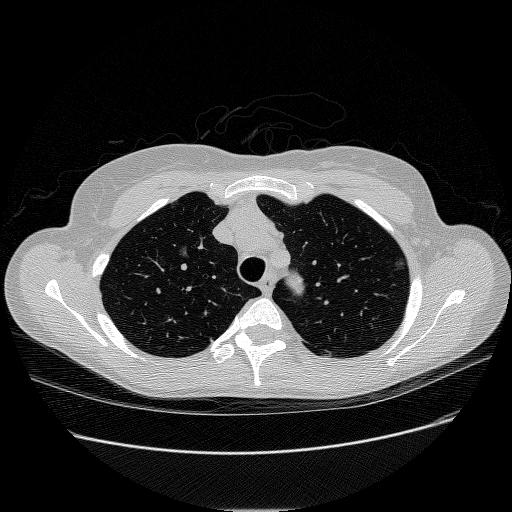nodule: (393, 257, 407, 271)
